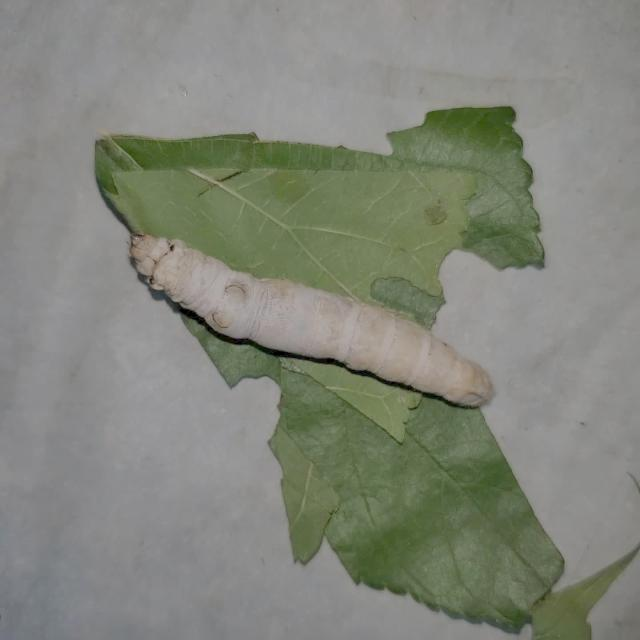Grasserie: (116, 224, 504, 426)
